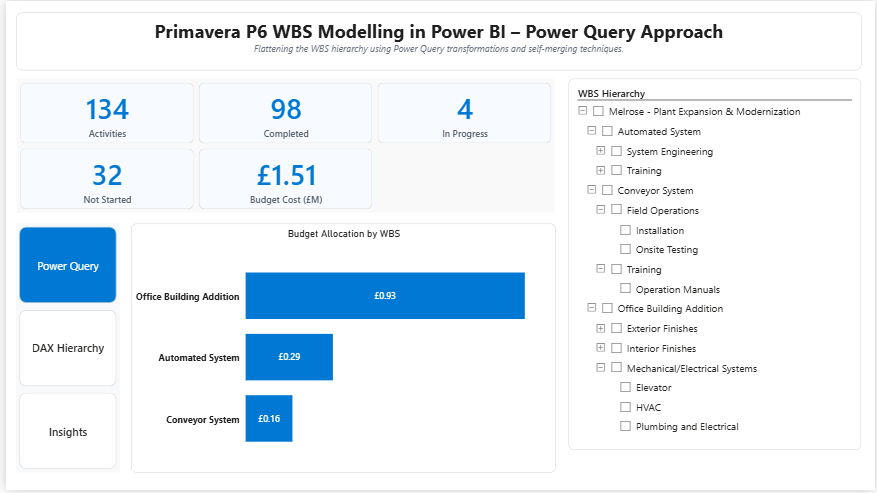

Layout of this report page (visuals, bound fields, positions):
{"tool":"powerbi","page":{"name":"Power Query","canvas":[1280,720],"ordinal":0},"visuals":[{"type":"slicer","fields":{"Values":["Dim_WBS.WBS Hierarchy.Project Name","Dim_WBS.WBS Hierarchy.WBS Level 1 Name","Dim_WBS.WBS Hierarchy.WBS Level 2 Name","Dim_WBS.WBS Hierarchy.WBS Level 3 Name"]},"box":[827.6,113.9,430.7,546.4],"z":0},{"type":"textbox","box":[14.2,16,1244.1,85.4],"z":1000},{"type":"pageNavigator","box":[14.2,327.5,153.1,366.6],"z":2000},{"type":"clusteredBarChart","title":"Budget Allocation by WBS","fields":{"Category":["Dim_WBS_DAX.Level 1 Name Hierarchy.Level 1 Name","Dim_WBS_DAX.Level 1 Name Hierarchy.Level 2 Name","Dim_WBS_DAX.Level 1 Name Hierarchy.Level 3 Name","Dim_WBS_DAX.Level 1 Name Hierarchy.Level 4 Name Final"],"Y":["Fact_Activities.Total Budgeted Cost"]},"box":[183.3,327.5,624.7,366.6],"z":3000},{"type":"cardVisual","fields":{"Data":["Fact_Activities.Activities Count","Fact_Activities.Completed Activities","Fact_Activities.In Progress Activities","Fact_Activities.Not Started Activities","Fact_Activities.Total Budgeted Cost"]},"box":[14.2,113.9,793.8,199.3],"z":4000}]}

Visuals, with their boxes in screenshot pixels (x1, y1, x2, y2), scaled from the page's 1280x720 canvas onto the 877x493 screenshot:
slicer - Dim_WBS.WBS Hierarchy.Project Name x Dim_WBS.WBS Hierarchy.WBS Level 1 Name: 567,78,862,452
textbox: 10,11,862,69
pageNavigator: 10,224,115,475
"Budget Allocation by WBS" clusteredBarChart: 126,224,554,475
cardVisual - Fact_Activities.Activities Count x Fact_Activities.Completed Activities: 10,78,554,214
